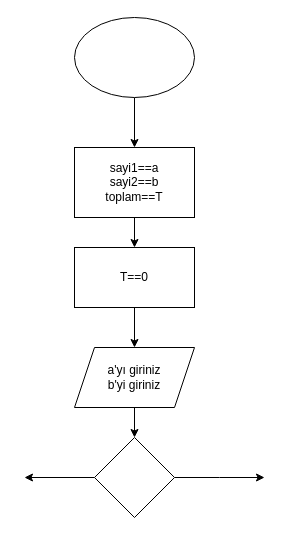
The diagram is 290 pixels wide and 535 high, and some of its shapes have lost their labels. Here are the shapes that lost their labels. From the top down, the centre of each, then its label:
At point (134, 57): "start".
At point (134, 477): "a>b".
